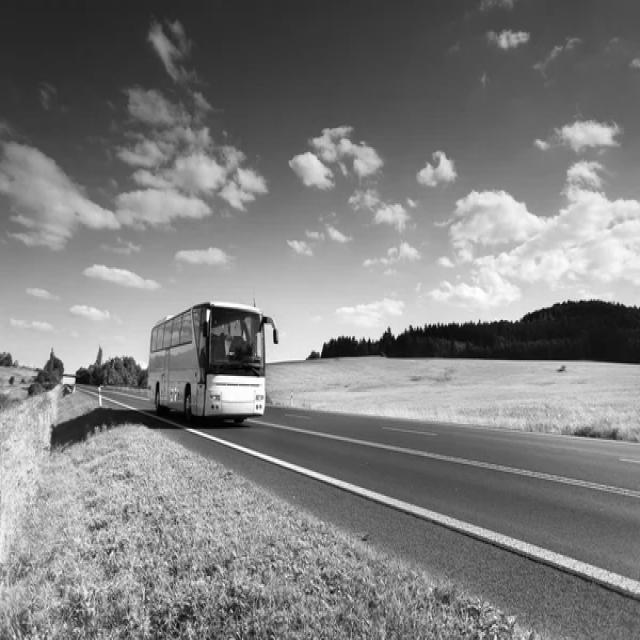Bus: (148, 301, 278, 423)
